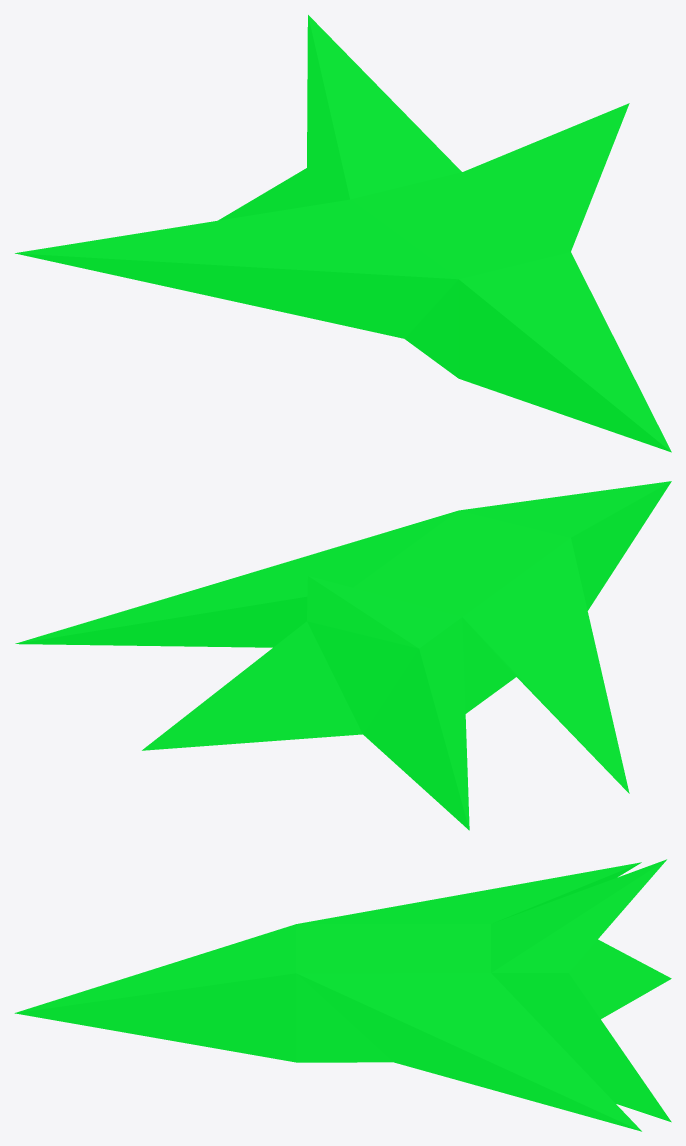
Rendered from fighter.gltf.
The picture shows the model from 3 angles, top to bottom: view 1: azimuth 30°, elevation 25°; view 2: azimuth 150°, elevation 25°; view 3: azimuth 270°, elevation 25°; orthographic projection. The views are drawn at different scales.
Parts seen in each view (by area): view 1: 立方体; view 2: 立方体; view 3: 立方体.
Boxes of the visible parts, x1,y1,x2,y2 form: 立方体: [15, 15, 671, 452]; 立方体: [15, 481, 671, 830]; 立方体: [14, 859, 671, 1131].
Size of the model in its own units: 10.98 by 3.63 by 11.32.
